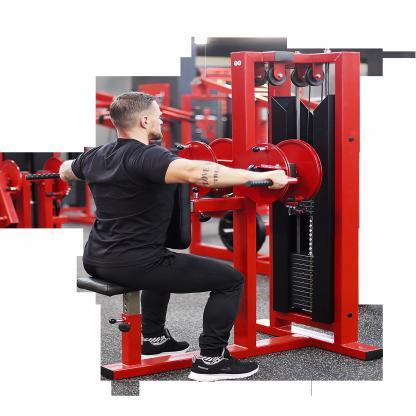lateral raises machine: (25, 50, 386, 383)
